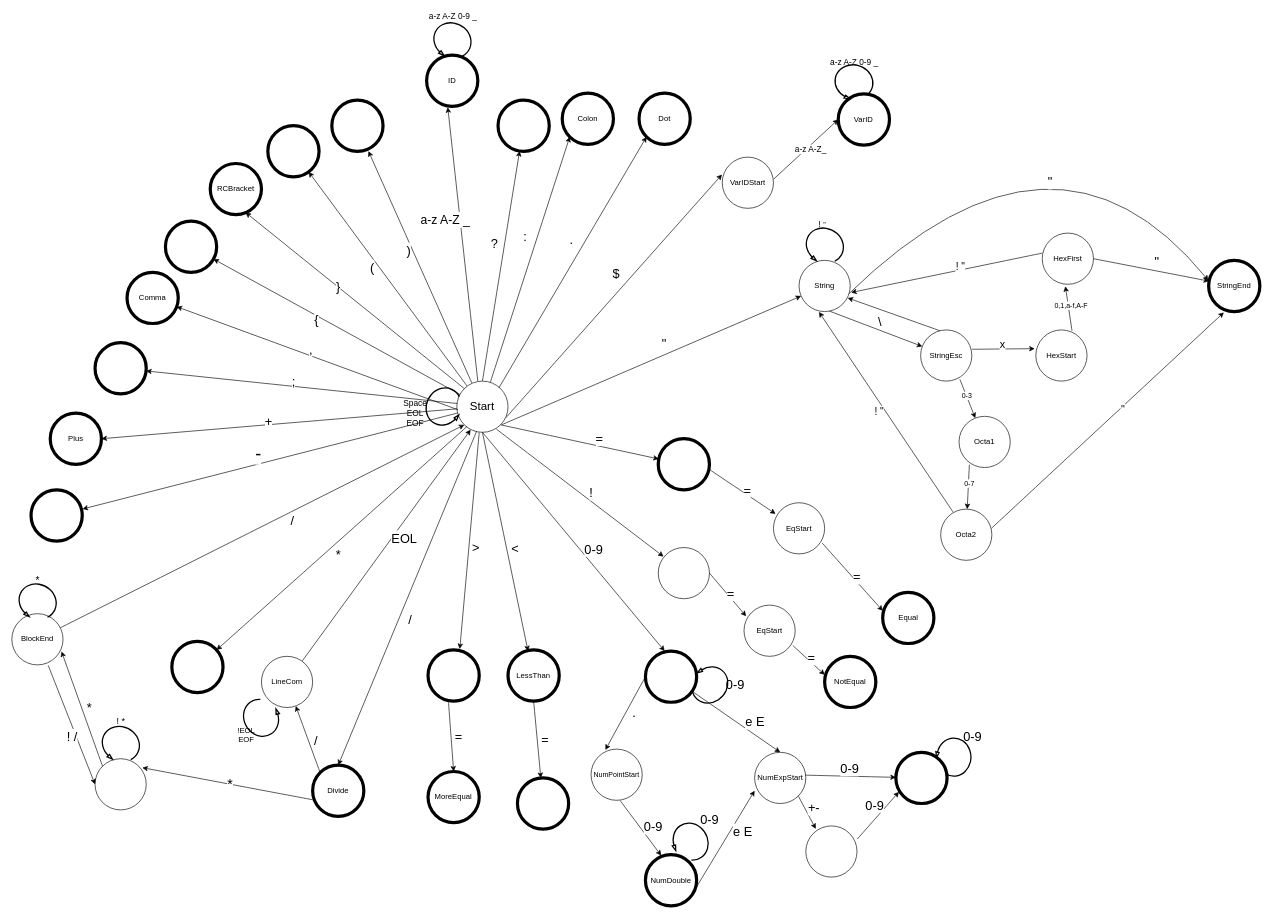
Image size: 1272x918. Some labels were removed from this diagram. The box of each missing label's shape, as (x1, y1, x2, y2) in pixels:
Assign: (656, 437, 711, 491)
BlockCom: (94, 758, 146, 810)
ExclMark: (658, 547, 709, 599)
LCBracket: (164, 219, 218, 274)
LessEqual: (516, 776, 570, 830)
LPar: (266, 124, 320, 178)
Minus: (29, 488, 84, 542)
MoreThan: (426, 648, 481, 702)
Mult: (170, 640, 224, 694)
NullableStart: (496, 98, 551, 153)
NumExp: (894, 750, 948, 805)
NumExpSign: (805, 825, 857, 877)
NumInt: (644, 649, 698, 704)
RPar: (330, 98, 384, 153)
Semicolon: (93, 341, 148, 395)
